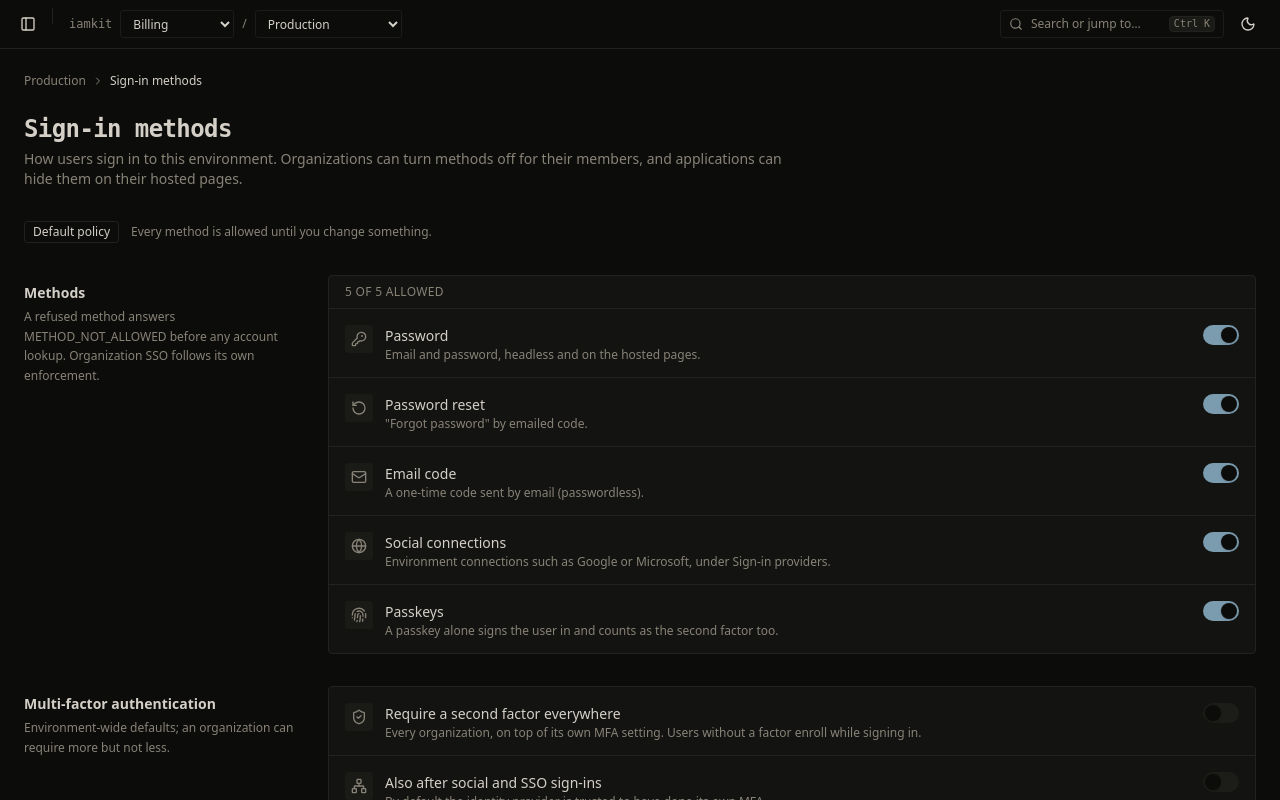
Test: warns when only organization SSO remains
Click the switch labelled "Password". click: click(417, 336)
box: [385, 326, 448, 345]
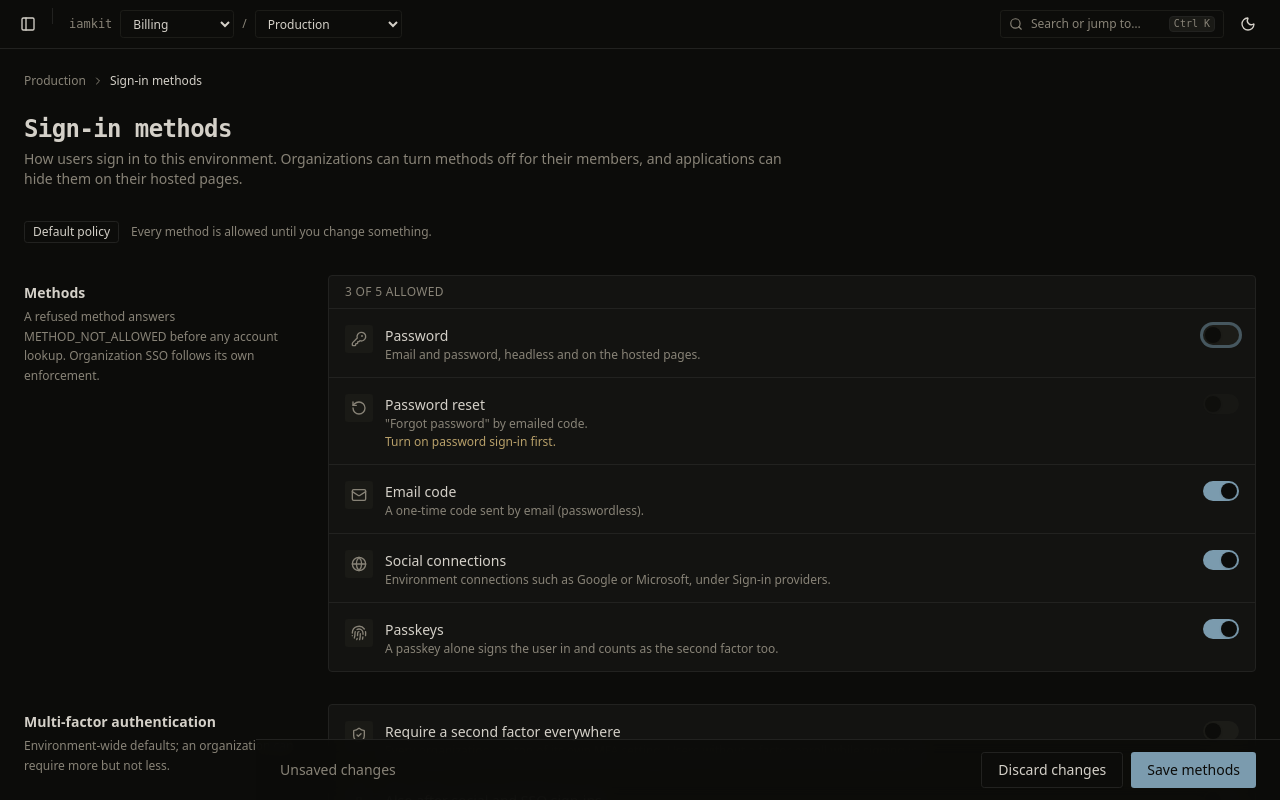
Click the switch labelled "Email code". click: click(421, 492)
box: [385, 482, 456, 501]
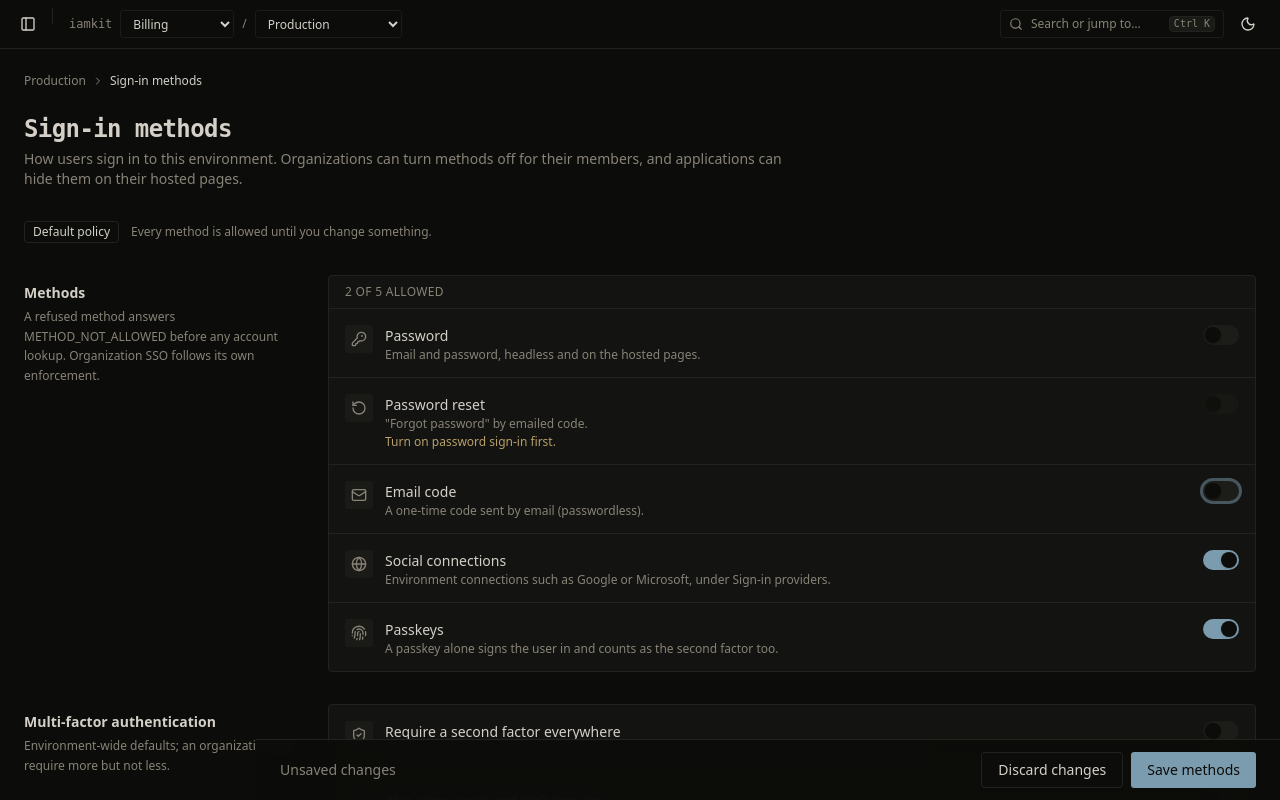
Click the switch labelled "Social connections". click: click(446, 560)
box: [385, 551, 506, 570]
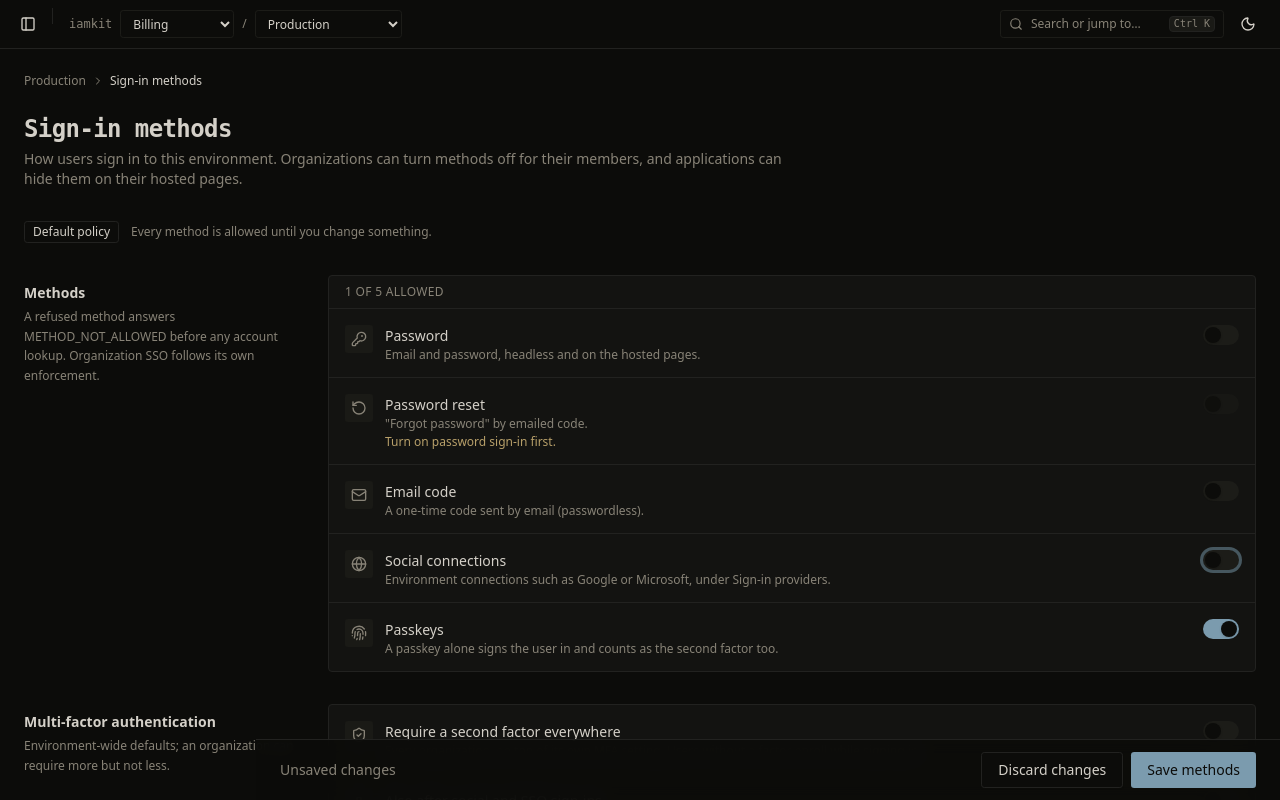
Click the switch labelled "Passkeys". click: click(414, 630)
box: [385, 620, 444, 639]
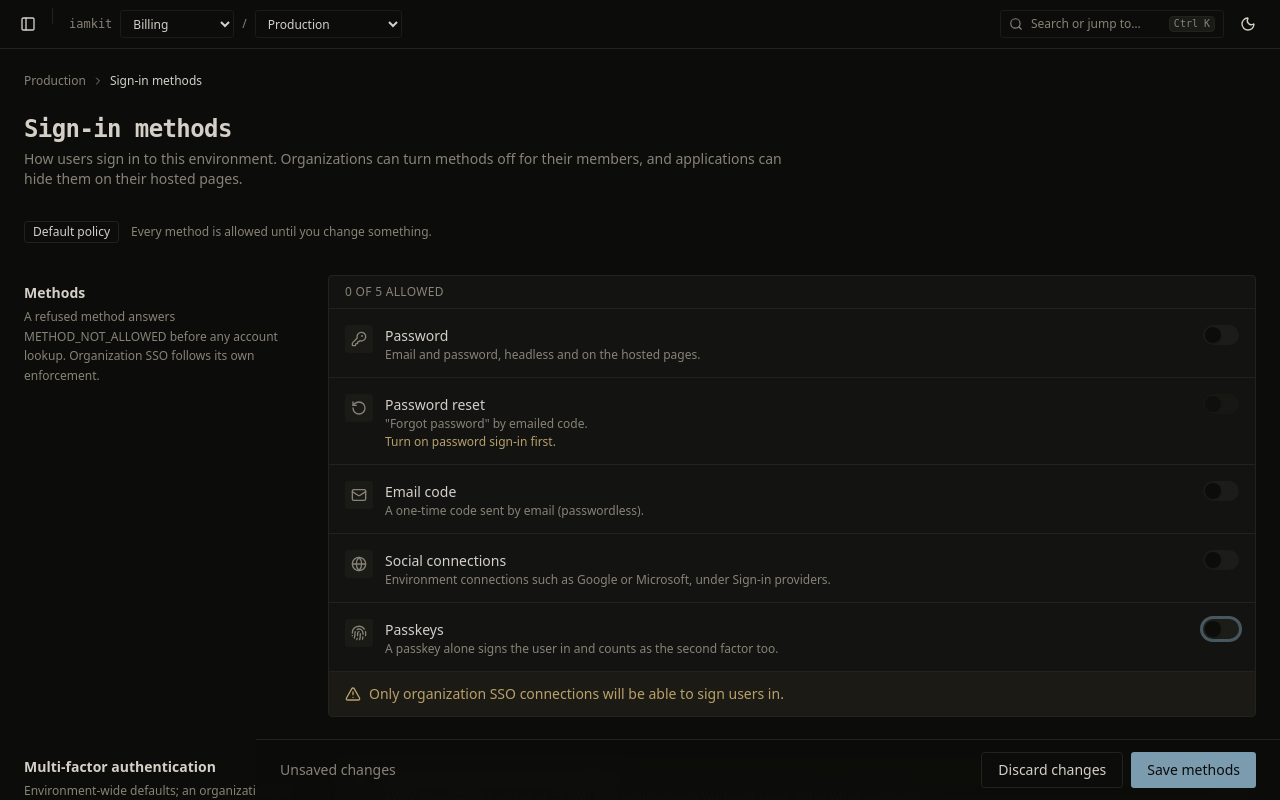
expect the text "Only organization SSO" is shown: met, box [369, 684, 784, 703]
